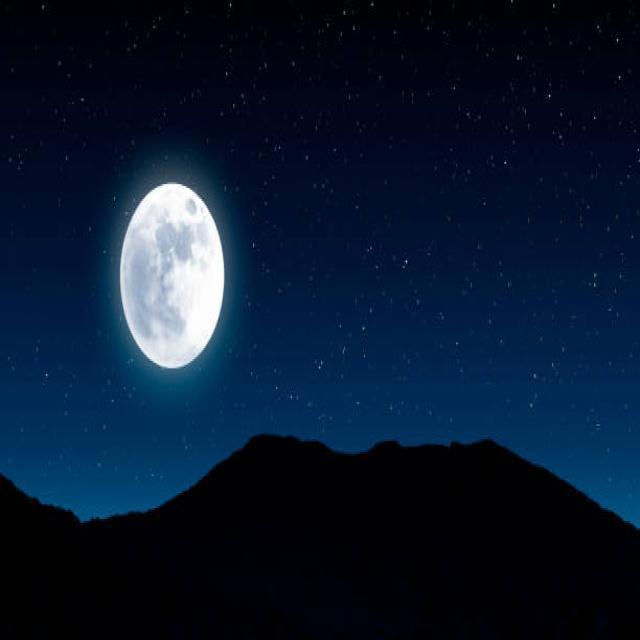moon: (115, 178, 227, 368)
